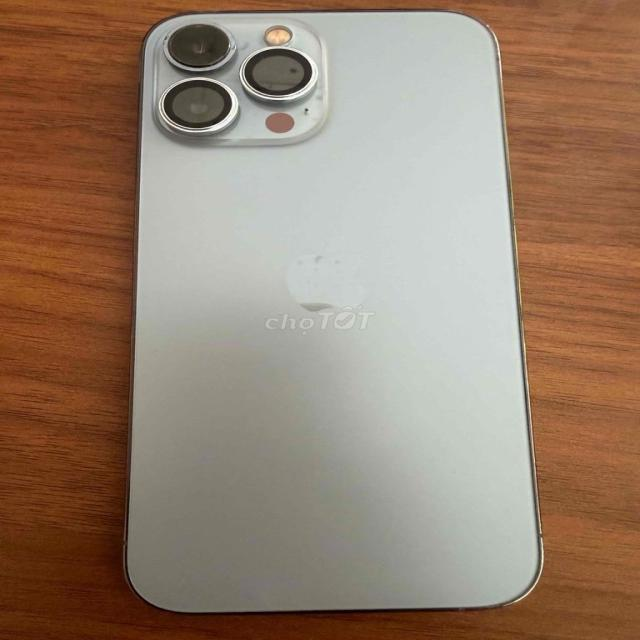gen_12_13: (116, 11, 541, 614)
